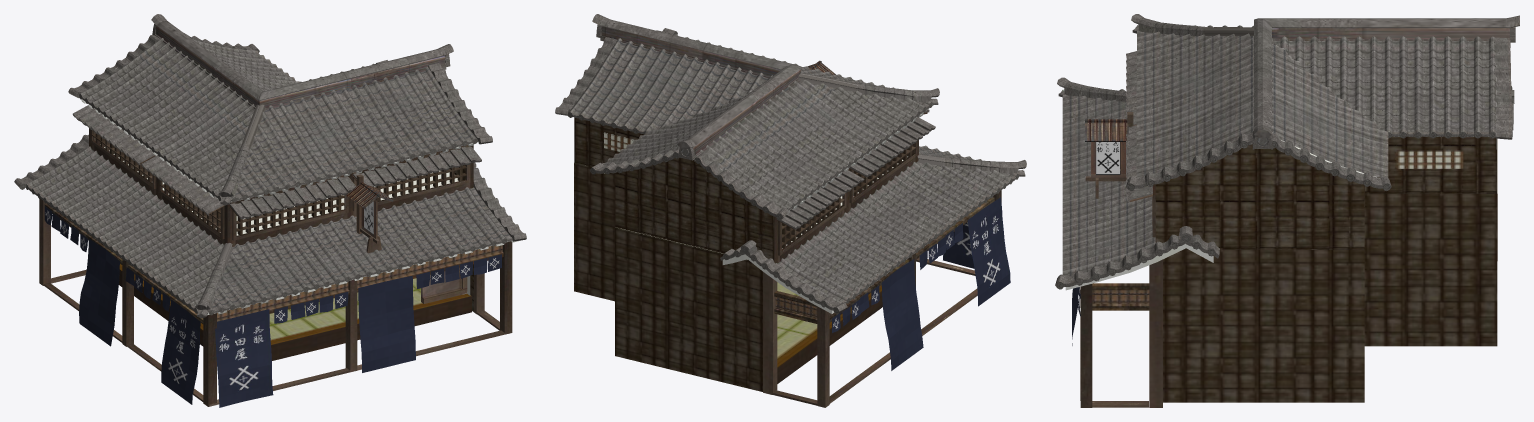
The model's file is es_shop02.glb.
3 views of the same model, side by side, from view 1: azimuth 30°, elevation 25°; view 2: azimuth 150°, elevation 25°; view 3: azimuth 270°, elevation 25° (orthographic). The views are drawn at different scales.
Visible parts, largest first — view 1: shop02; view 2: shop02; view 3: shop02.
Part boxes in pixels (<box>): shop02: <box>14,14,526,407</box>; shop02: <box>555,14,1026,407</box>; shop02: <box>1055,14,1519,407</box>.
Bounding box in the file's own units: 7.9 × 5.2 × 7.66.
1 material, 1 textured.
